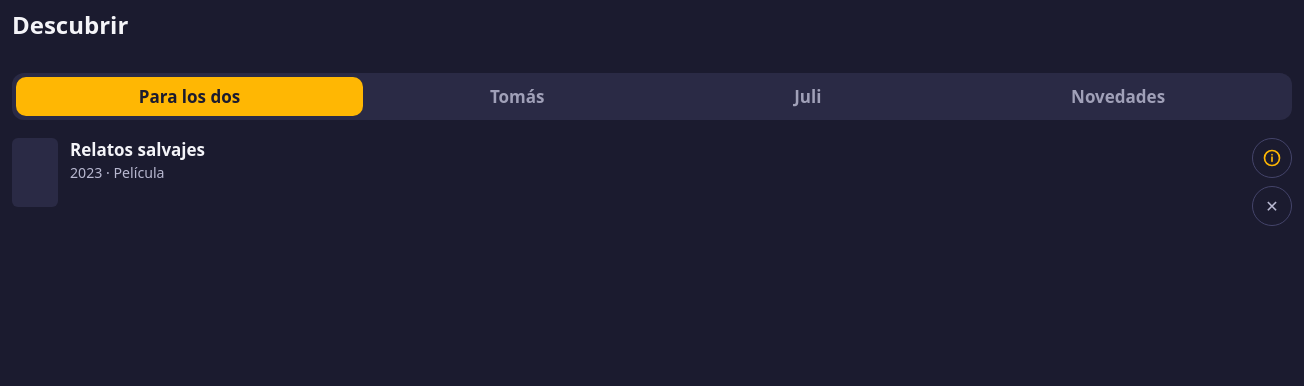
without platforms Novedades invites to choose them in Ajustes
Click the button "Novedades" at (1118, 96), box [948,77,1288,116]
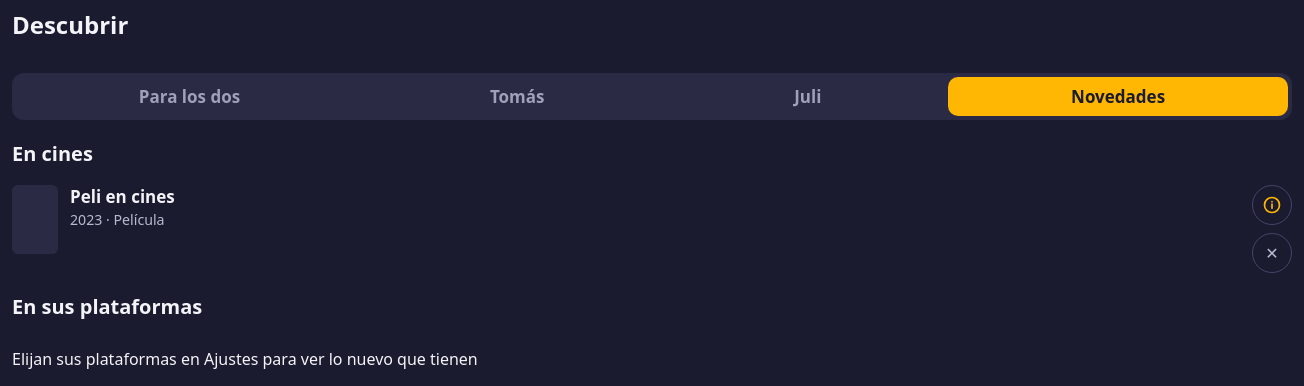
Now the text "Elijan sus plataformas en Ajustes para ver lo nuevo que tienen" is shown, box [12,348,478,370]
Now the text "Peli en cines" is shown, box [70,185,175,208]
